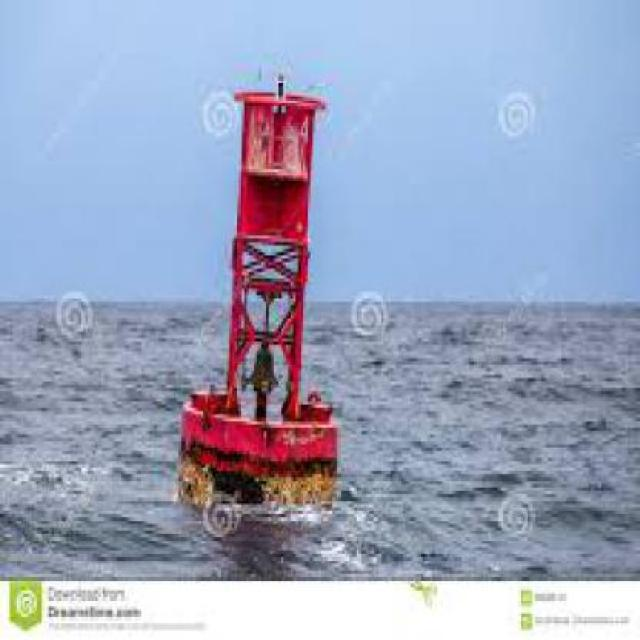buoy: (174, 50, 353, 529)
